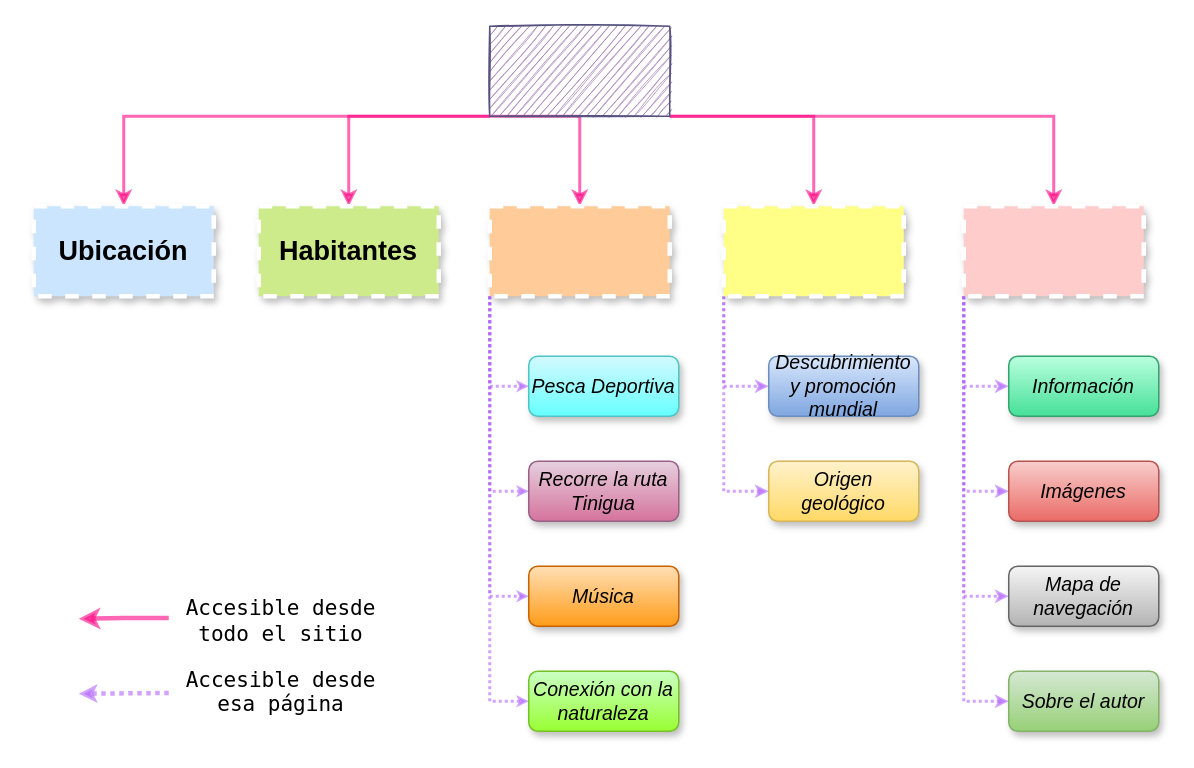
Some shapes in this 1194 by 768 pixel diagram are drawn without their labels. Here are the shapes that lost their labels. From the top down, the centre of each, then its label:
the point at 579,70: INDEX
the point at 580,252: Actividades
the point at 814,252: Historia
the point at 1054,252: Créditos
